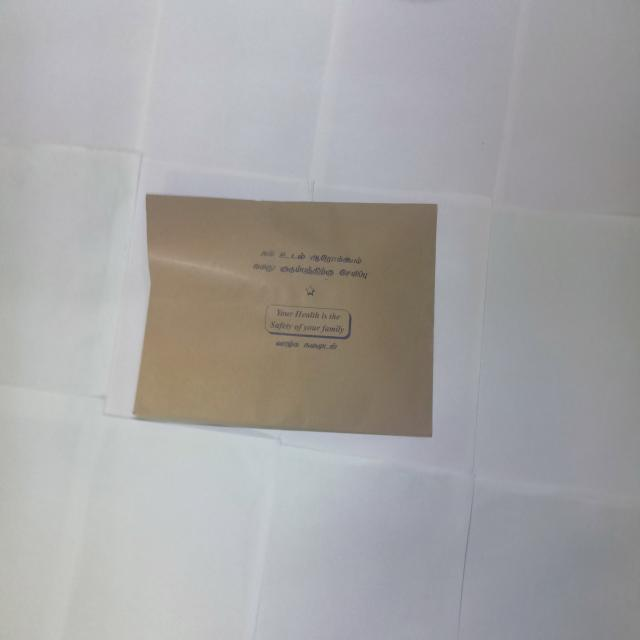box: (134, 194, 442, 437)
